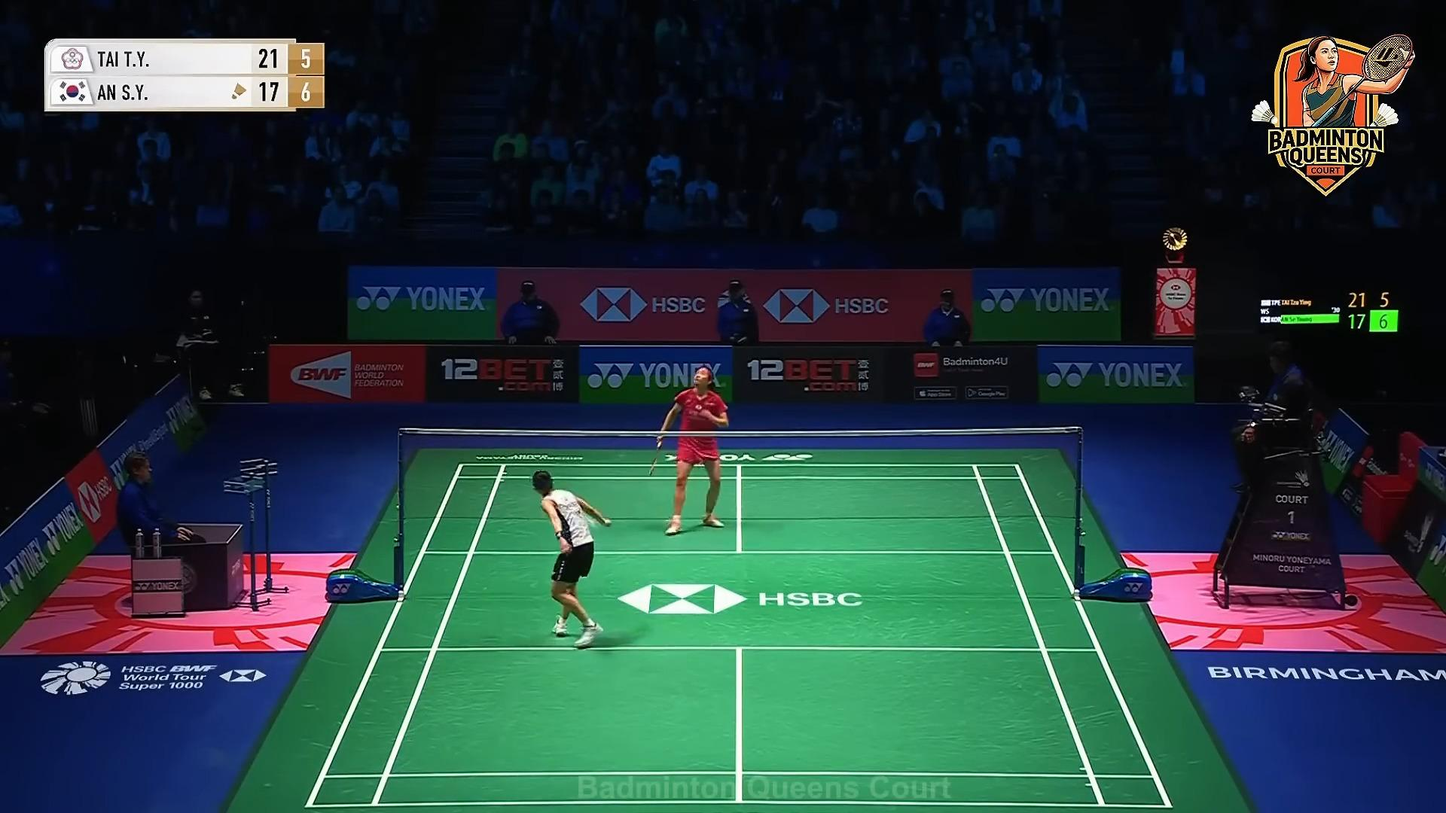player: (535, 470, 611, 649), (654, 364, 729, 537)
